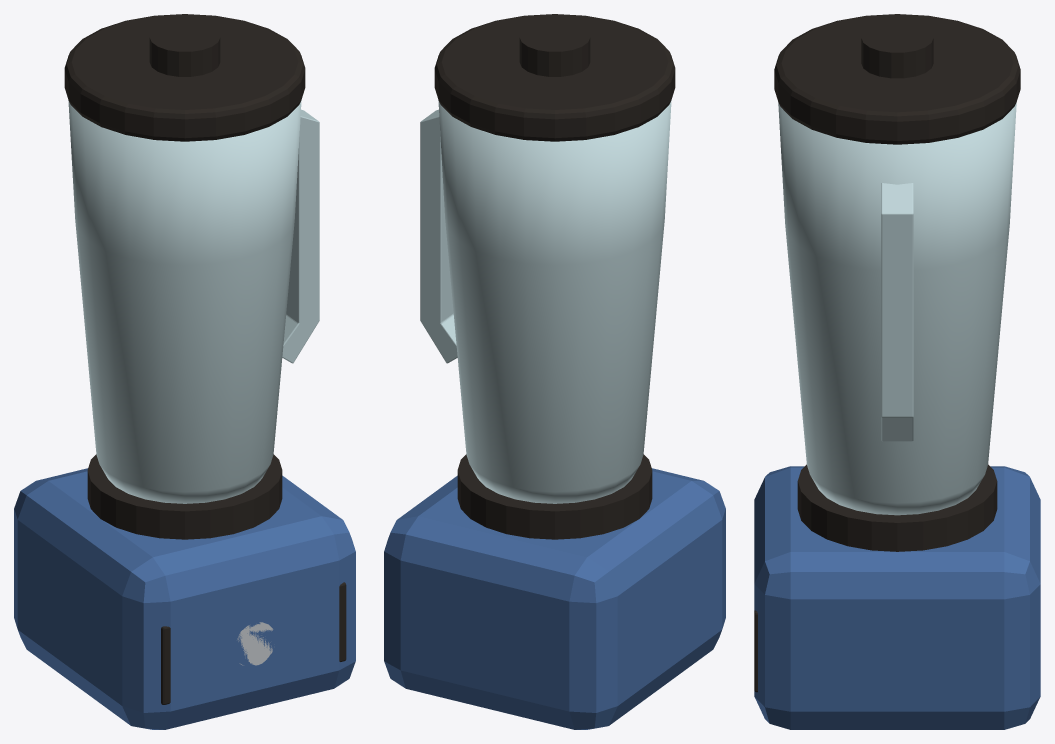
Rendered from hh_cat_blender.glb.
3 views of the same model, side by side, from view 1: azimuth 30°, elevation 25°; view 2: azimuth 150°, elevation 25°; view 3: azimuth 270°, elevation 25° (orthographic). The views are drawn at different scales.
Visible parts, largest first — view 1: jug, base, lid, collar, jug_handle, lid_cap, panel, dial; view 2: jug, base, lid, collar, jug_handle, lid_cap; view 3: jug, base, lid, jug_handle, collar, lid_cap.
Boxes of the visible parts, left/top/right/bottom form: jug: left=68, top=100, right=301, bottom=503; base: left=14, top=468, right=355, bottom=729; lid: left=64, top=14, right=305, bottom=141; collar: left=87, top=454, right=282, bottom=539; jug_handle: left=282, top=109, right=319, bottom=363; lid_cap: left=149, top=22, right=220, bottom=76; panel: left=161, top=582, right=346, bottom=704; dial: left=237, top=622, right=273, bottom=665; jug: left=438, top=100, right=671, bottom=503; base: left=384, top=468, right=725, bottom=729; lid: left=434, top=14, right=675, bottom=141; collar: left=457, top=454, right=652, bottom=539; jug_handle: left=420, top=109, right=457, bottom=363; lid_cap: left=519, top=22, right=590, bottom=76; jug: left=778, top=103, right=1016, bottom=515; base: left=754, top=466, right=1040, bottom=729; lid: left=774, top=14, right=1020, bottom=144; jug_handle: left=881, top=183, right=913, bottom=441; collar: left=797, top=464, right=997, bottom=551; lid_cap: left=861, top=22, right=933, bottom=78.
Size of the model in its own units: 0.16 by 0.4 by 0.16.
